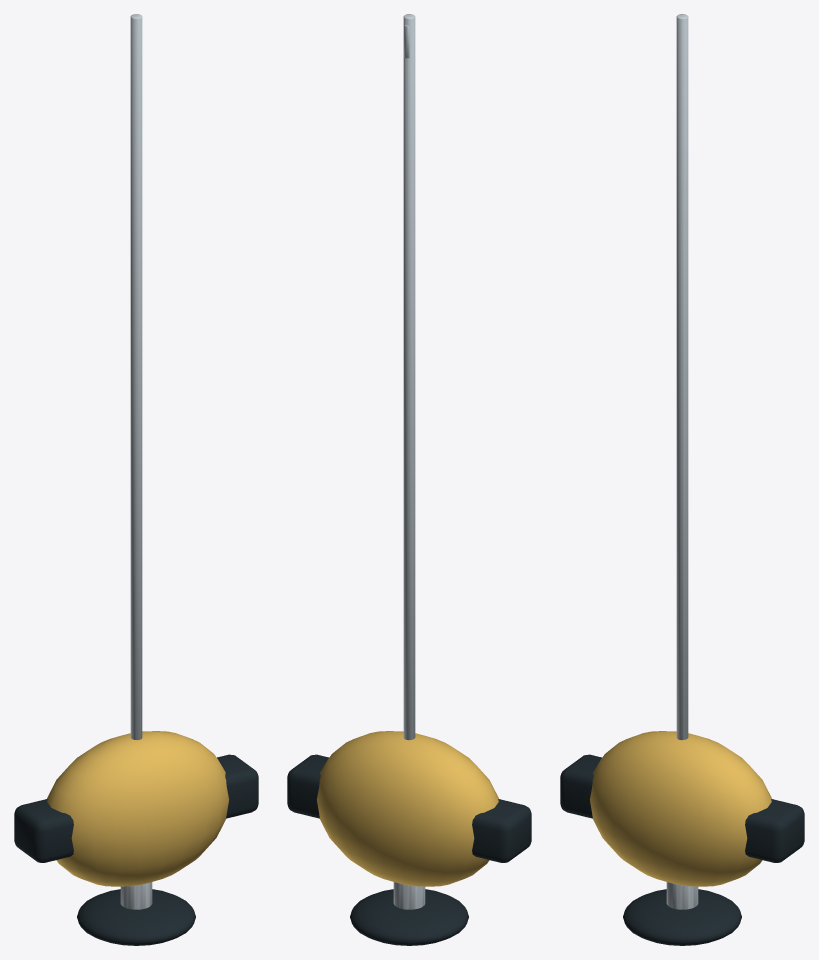
File: inst_fascial_closure.fbx
The picture shows the model from 3 angles, left to right: view 1: azimuth 30°, elevation 25°; view 2: azimuth 150°, elevation 25°; view 3: azimuth 330°, elevation 25°; orthographic projection.
Parts seen in each view (by area): view 1: inst_fascial_closure_Geometry, Trigger_Geometry; view 2: inst_fascial_closure_Geometry, Trigger_Geometry; view 3: inst_fascial_closure_Geometry, Trigger_Geometry.
Boxes of the visible parts, box(x1,y1,x2,y2) form: inst_fascial_closure_Geometry: box(14, 14, 258, 886); Trigger_Geometry: box(77, 882, 195, 945); inst_fascial_closure_Geometry: box(287, 14, 531, 886); Trigger_Geometry: box(350, 882, 468, 945); inst_fascial_closure_Geometry: box(560, 14, 804, 886); Trigger_Geometry: box(623, 882, 741, 945).
Size of the model in its own units: 0.065 by 0.254 by 0.03.
